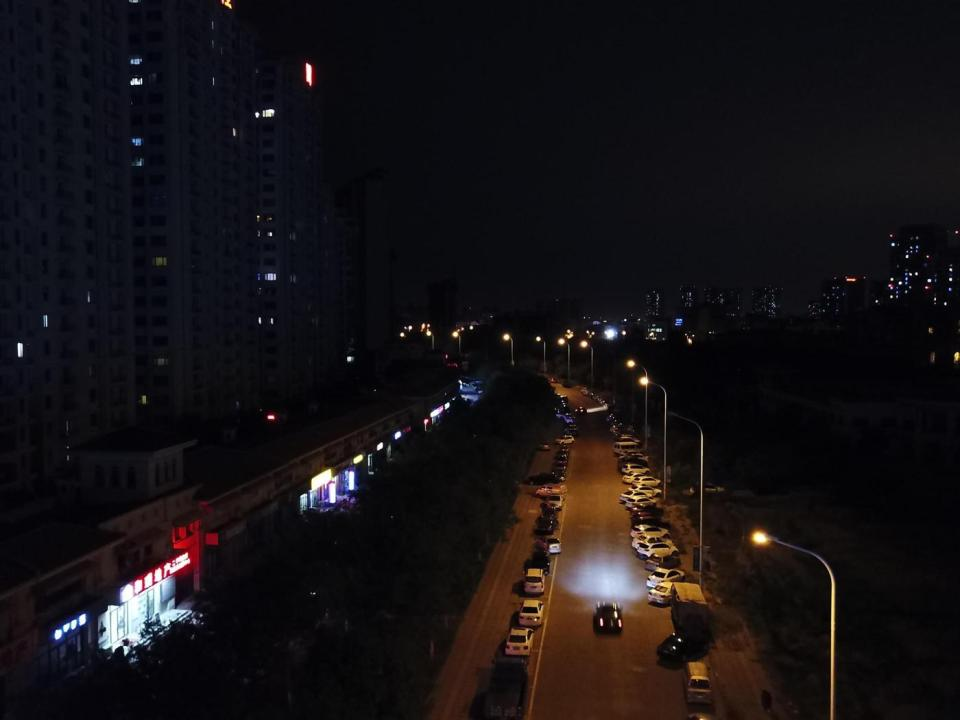car: (656, 624, 713, 662), (589, 599, 624, 633), (646, 564, 686, 591), (648, 580, 688, 605), (504, 624, 535, 656), (516, 599, 545, 626), (521, 566, 547, 596), (630, 524, 671, 542), (632, 534, 672, 552), (639, 541, 678, 559), (630, 516, 670, 532), (647, 554, 681, 572), (688, 481, 723, 497), (618, 490, 653, 505), (624, 496, 658, 511), (628, 485, 662, 500), (630, 512, 665, 526), (538, 534, 562, 554), (536, 517, 560, 535), (526, 472, 559, 485), (630, 504, 665, 516), (533, 552, 550, 576), (622, 472, 653, 485), (546, 490, 566, 510), (622, 463, 651, 476), (618, 453, 648, 464), (634, 476, 663, 487), (620, 457, 648, 468), (618, 461, 645, 472), (618, 451, 647, 461), (542, 505, 559, 522), (617, 436, 641, 448), (617, 434, 641, 446), (554, 467, 566, 481), (556, 435, 574, 444), (539, 439, 551, 451), (564, 428, 579, 437), (574, 406, 588, 415), (555, 459, 567, 469), (560, 379, 571, 388), (560, 446, 571, 454), (558, 452, 569, 460), (582, 389, 590, 395), (548, 377, 556, 383), (582, 386, 588, 391)
truck: (484, 656, 532, 720), (668, 580, 714, 638)
van: (680, 660, 715, 706), (534, 484, 569, 501), (613, 442, 645, 455)
